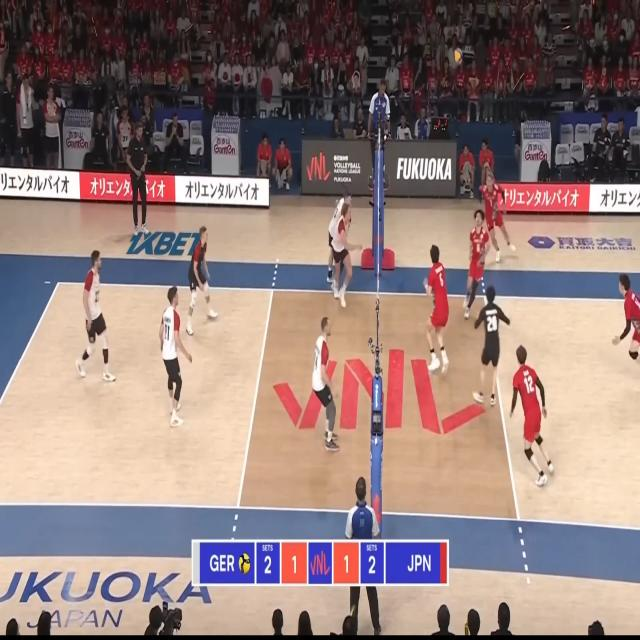ball: (454, 48, 463, 64)
